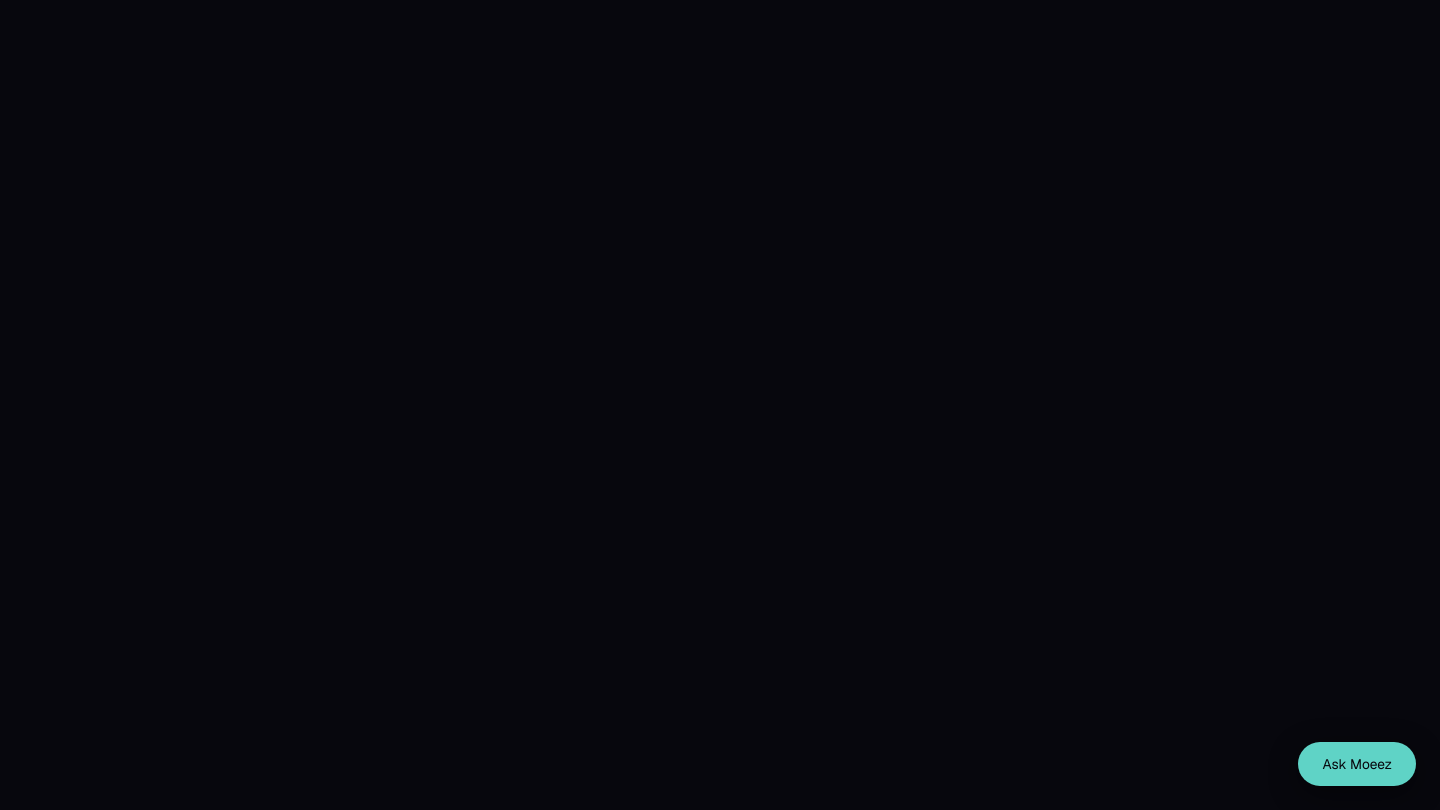
Test case: ChatDock › says plainly that it is an AI trained on notes
Click the button "Ask Moeez": point(1357, 764) [1298, 742, 1416, 786]
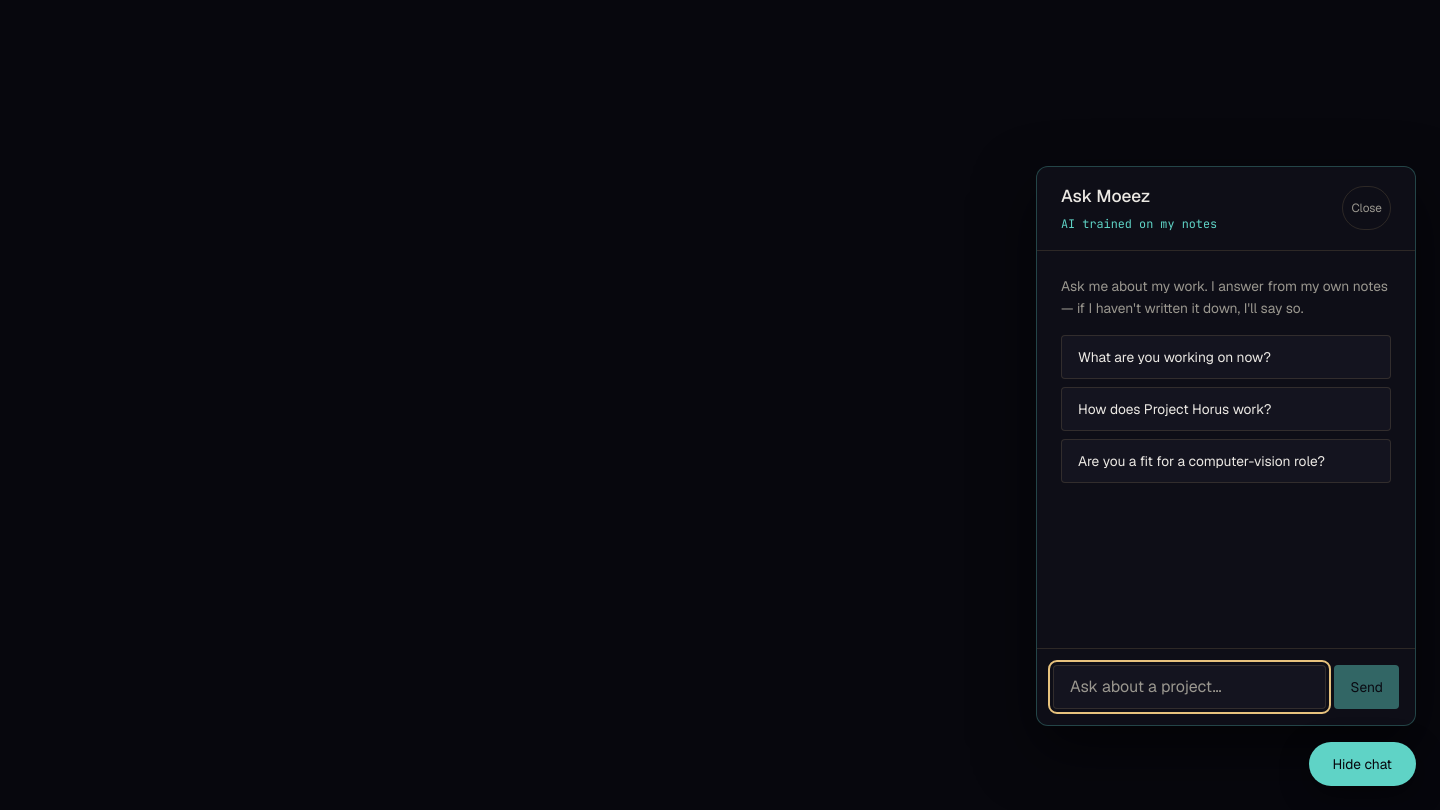
Check: the text "AI trained on my notes" is shown, box [1061, 216, 1217, 232]
